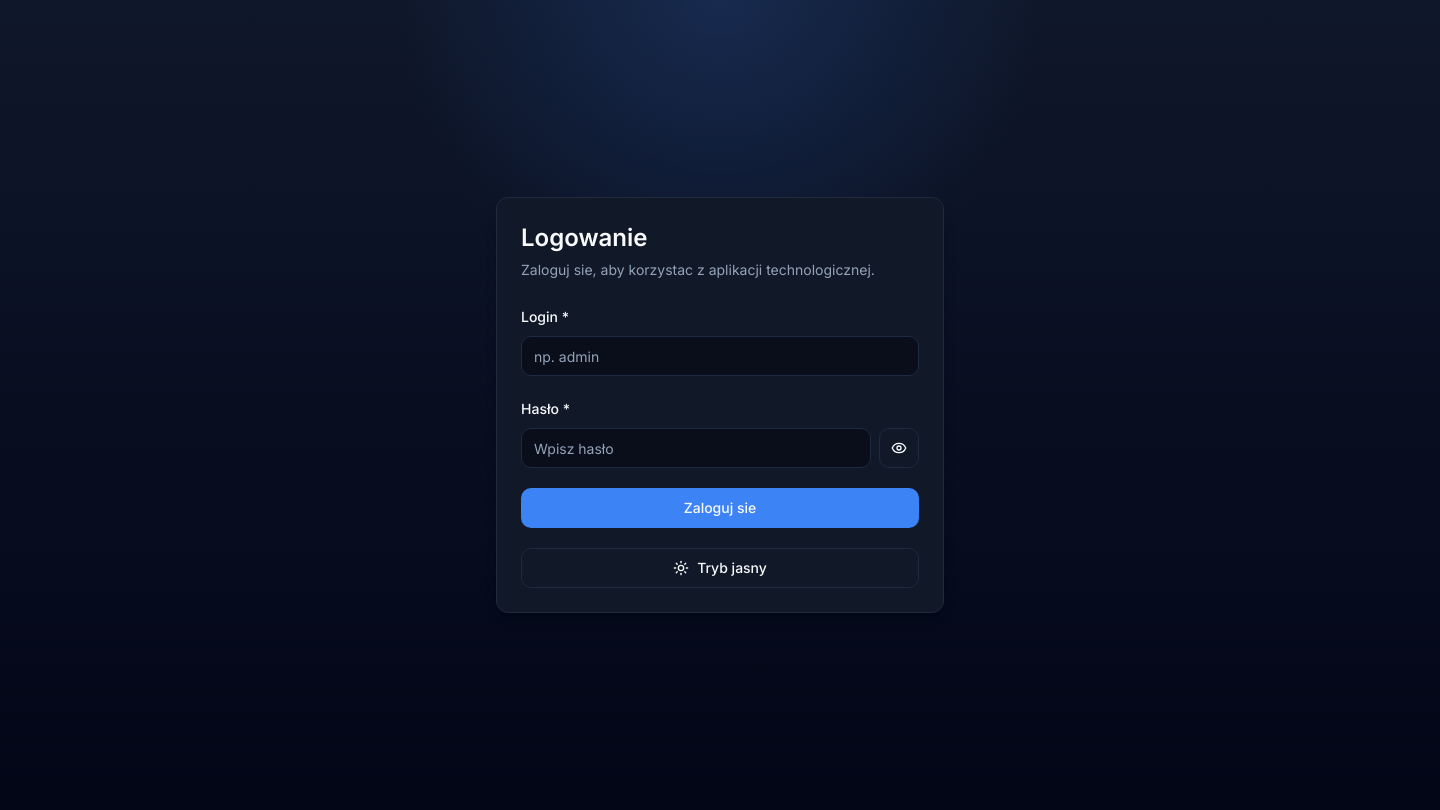
theme selection › still switches when browser storage is unavailable
The width and height of the screenshot is (1440, 810).
Step 1. Click the button with aria-label "Włącz tryb jasny" → {"x": 720, "y": 568}, box x1=521 y1=548 x2=919 y2=588
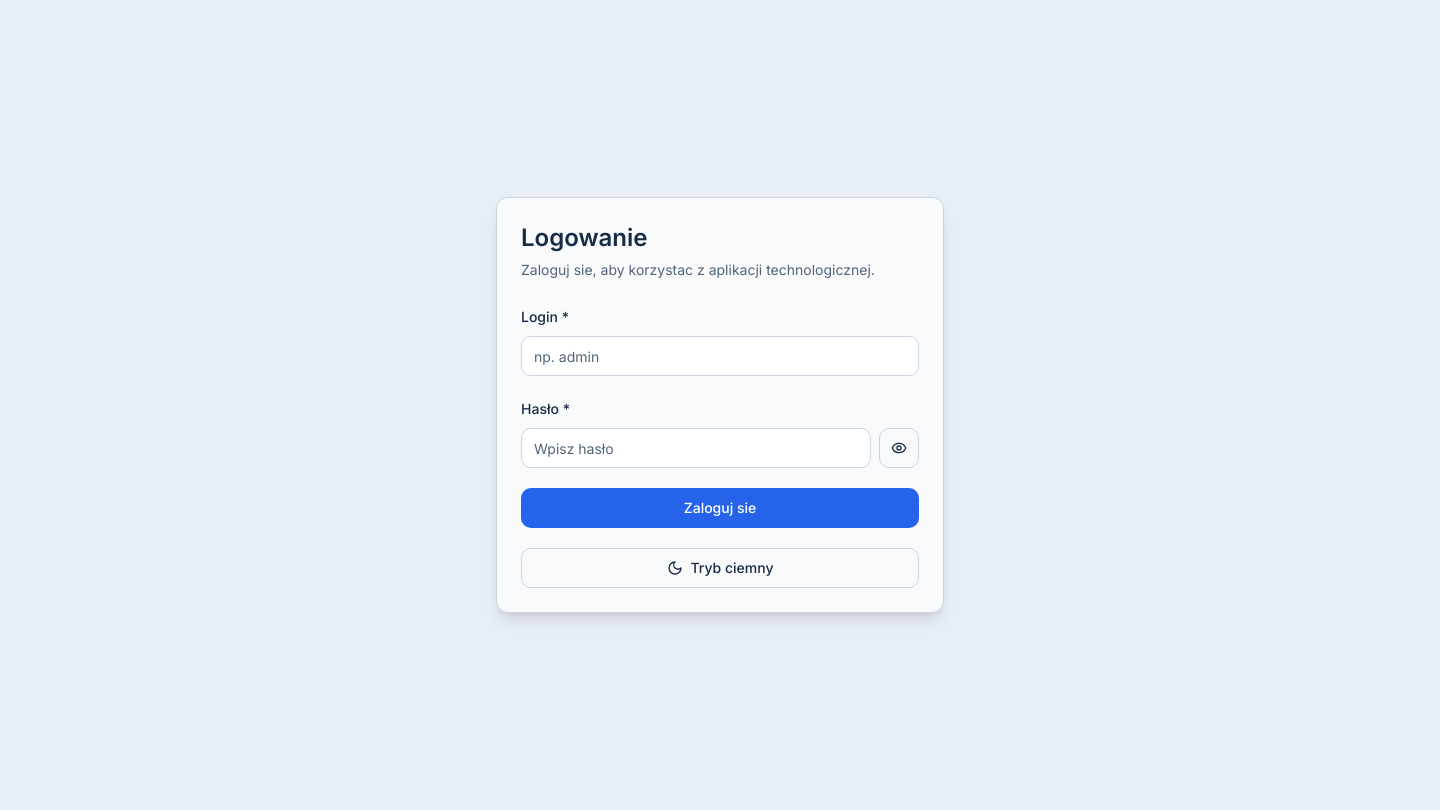
Expected: the button with aria-label "Włącz tryb ciemny" is shown, x1=521 y1=548 x2=919 y2=588
